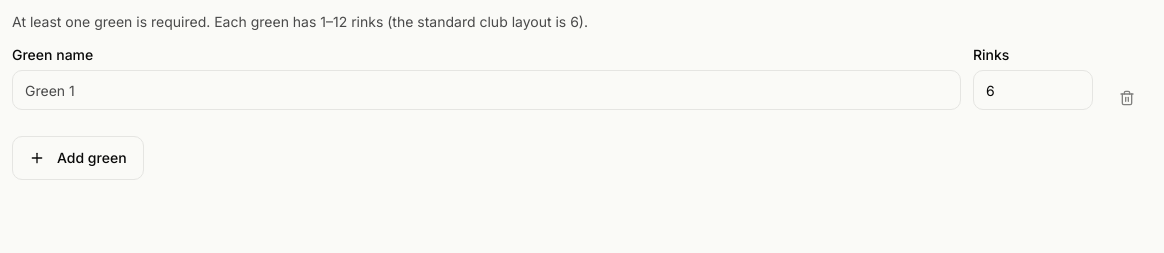
Step3Greens › appends a new green on Add
Click the button with test id "greens-add" at point(78, 158), box x1=12 y1=136 x2=144 y2=180
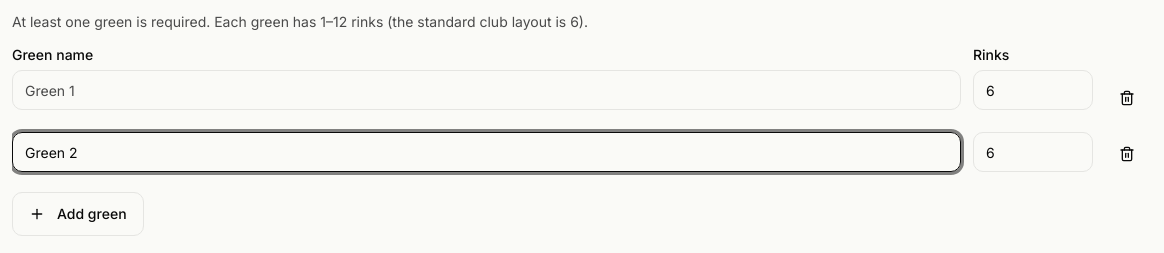
expect the number field with test id "green-1-rinks" is shown: met, box x1=973 y1=132 x2=1093 y2=172
expect the button with test id "green-0-remove" is enabled: met, box x1=1105 y1=76 x2=1149 y2=120
expect the button with test id "green-1-remove" is enabled: met, box x1=1105 y1=132 x2=1149 y2=176
